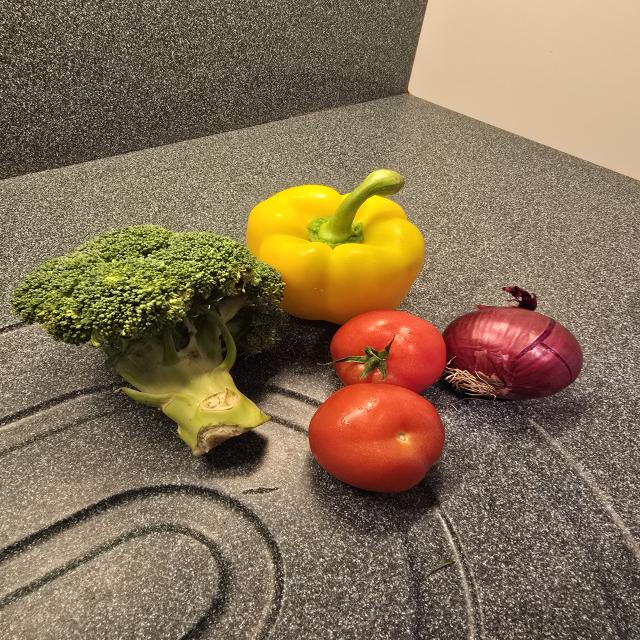Bell Pepper: (246, 170, 425, 324)
Broccoli: (11, 224, 284, 455)
Onion: (443, 285, 583, 400)
Tomato: (308, 383, 444, 492), (331, 311, 446, 393)
